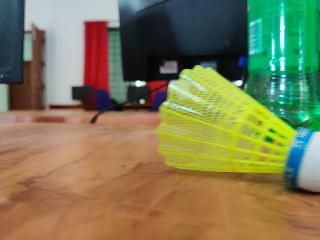shuttlecock: (155, 66, 319, 194)
